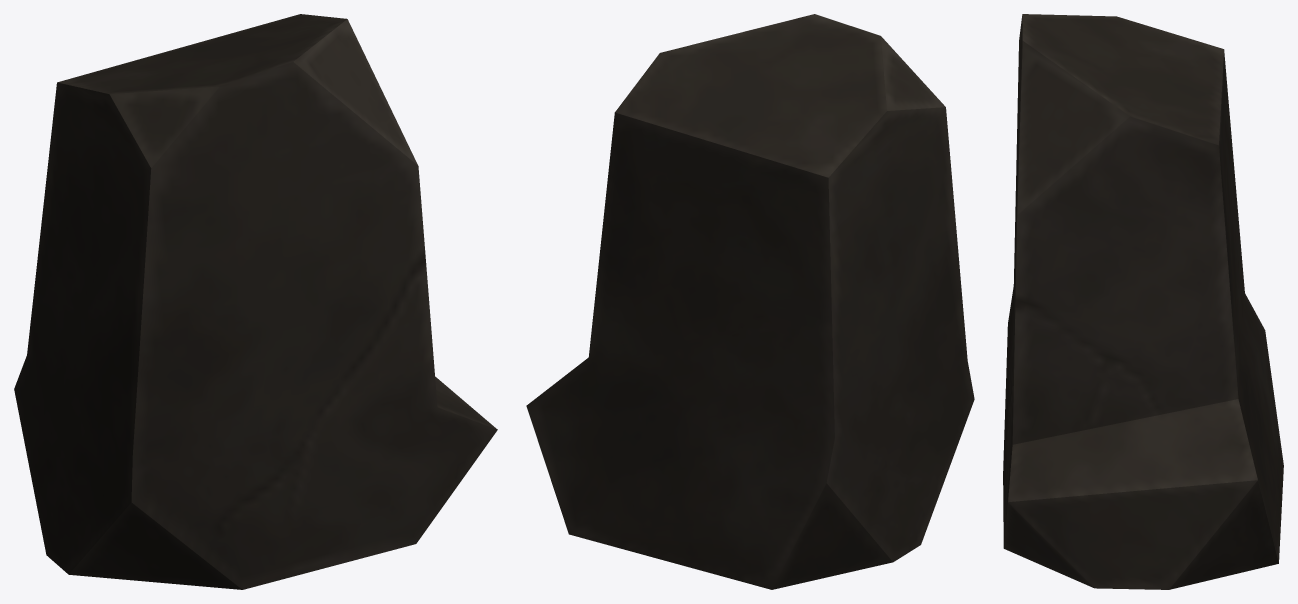
File: Stone2.FBX
3 views of the same model, side by side, from view 1: azimuth 30°, elevation 25°; view 2: azimuth 150°, elevation 25°; view 3: azimuth 270°, elevation 25° (orthographic). The views are drawn at different scales.
Visible parts, largest first — view 1: Stone2; view 2: Stone2; view 3: Stone2.
Boxes of the visible parts, left/top/right/bottom form: Stone2: left=14, top=14, right=497, bottom=589; Stone2: left=526, top=14, right=974, bottom=589; Stone2: left=1003, top=14, right=1283, bottom=589.
Bounding box in the file's own units: 4.23 × 5.56 × 3.03.
